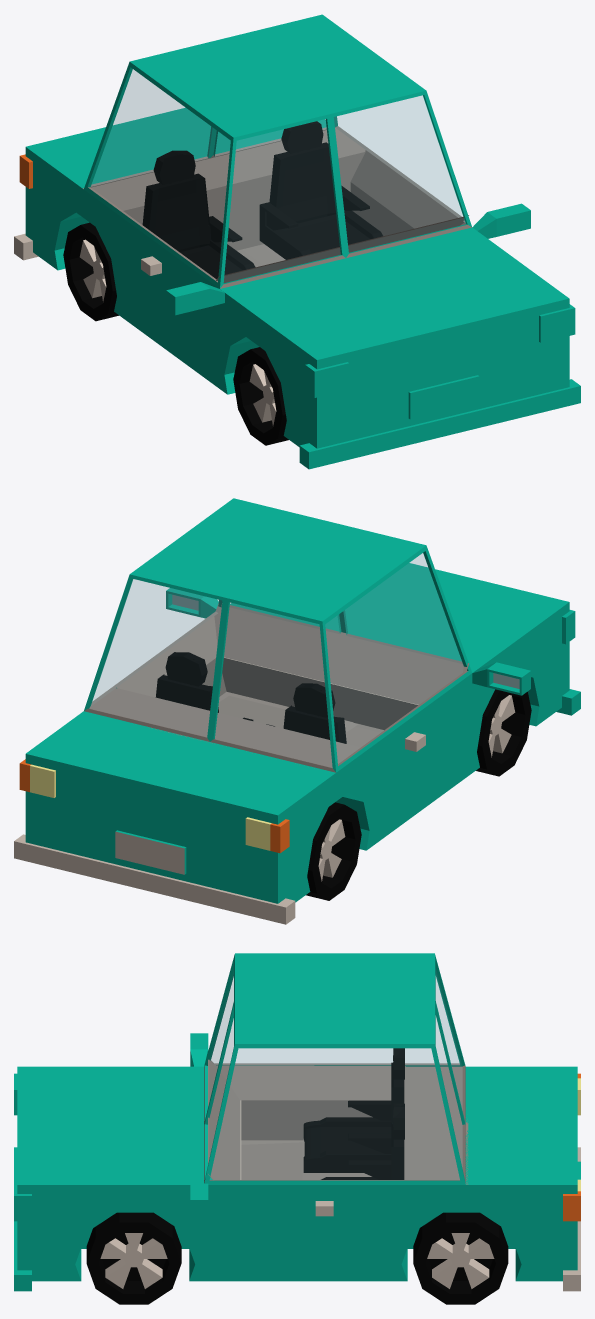
File: Autos.fbx
3 renders of one model, top to bottom at view 1: azimuth 30°, elevation 25°; view 2: azimuth 150°, elevation 25°; view 3: azimuth 270°, elevation 25°, orthographic. The views are drawn at different scales.
Parts seen in each view (by area): view 1: 1Body, 1 Main-Chair, 1 Chair, 1 Wheels BR, 1 Wheels VR; view 2: 1Body, 1 Wheels BR, 1 Wheels VR, 1 Main-Chair, 1 Chair; view 3: 1Body, 1 Wheels BL, 1 Wheels FL, 1 Chair, 1 Main-Chair.
Boxes of the visible parts, bbox=[...] form: 1Body: bbox=[14, 14, 580, 469]; 1 Main-Chair: bbox=[259, 121, 382, 259]; 1 Chair: bbox=[142, 150, 255, 279]; 1 Wheels BR: bbox=[63, 222, 118, 321]; 1 Wheels VR: bbox=[233, 347, 288, 445]; 1Body: bbox=[14, 498, 580, 924]; 1 Wheels BR: bbox=[306, 802, 361, 900]; 1 Wheels VR: bbox=[476, 689, 531, 776]; 1 Main-Chair: bbox=[155, 652, 274, 726]; 1 Chair: bbox=[283, 683, 346, 743]; 1Body: bbox=[14, 953, 580, 1291]; 1 Wheels BL: bbox=[413, 1212, 508, 1304]; 1 Wheels FL: bbox=[86, 1212, 181, 1304]; 1 Chair: bbox=[303, 1048, 404, 1172]; 1 Main-Chair: bbox=[321, 1103, 404, 1179].
Bounding box in the file's own units: 184 × 127 × 264.
3 materials, 2 textured.
